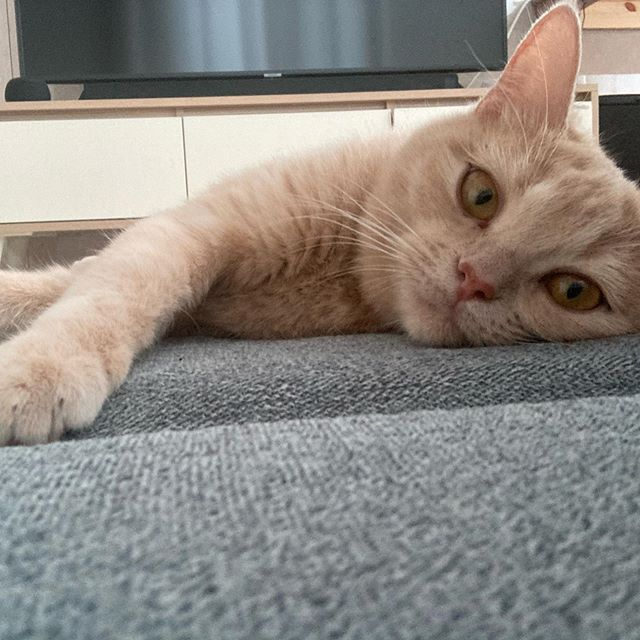cat: (394, 1, 640, 346)
